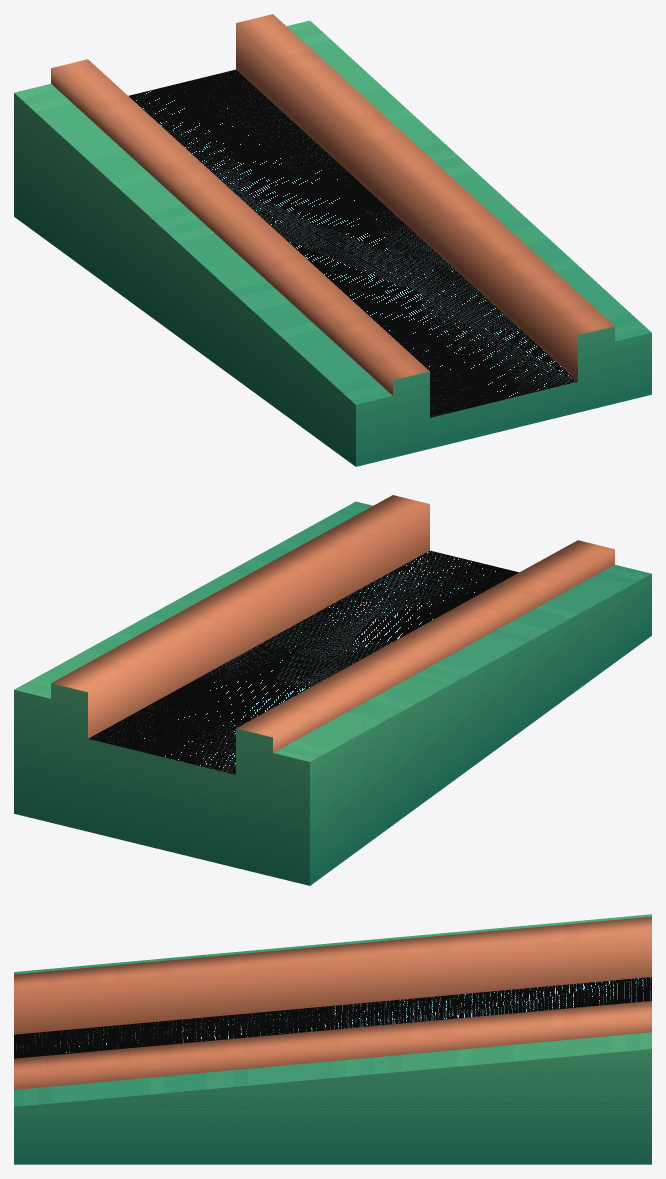
Rendered from tower-defense-kit--tile-river-slope-large.glb.
3 views of the same model, one above another, from view 1: azimuth 30°, elevation 25°; view 2: azimuth 150°, elevation 25°; view 3: azimuth 270°, elevation 25° (orthographic). The views are drawn at different scales.
Parts seen in each view (by area): view 1: tile-river-slope-large; view 2: tile-river-slope-large; view 3: tile-river-slope-large.
Part boxes in pixels (x1=…): tile-river-slope-large: x1=14, y1=14, x2=651, y2=466; tile-river-slope-large: x1=14, y1=495, x2=651, y2=885; tile-river-slope-large: x1=14, y1=914, x2=651, y2=1164.
Size of the model in its own units: 1 by 0.45 by 2.
Materials: 1 (1 with a texture image).
